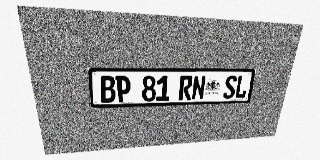1: (156, 76, 170, 101)
8: (142, 76, 156, 101)
B: (99, 76, 116, 103)
L: (234, 75, 249, 98)
N: (191, 75, 206, 100)
P: (115, 76, 131, 102)
R: (178, 76, 193, 100)
S: (223, 75, 238, 99)
